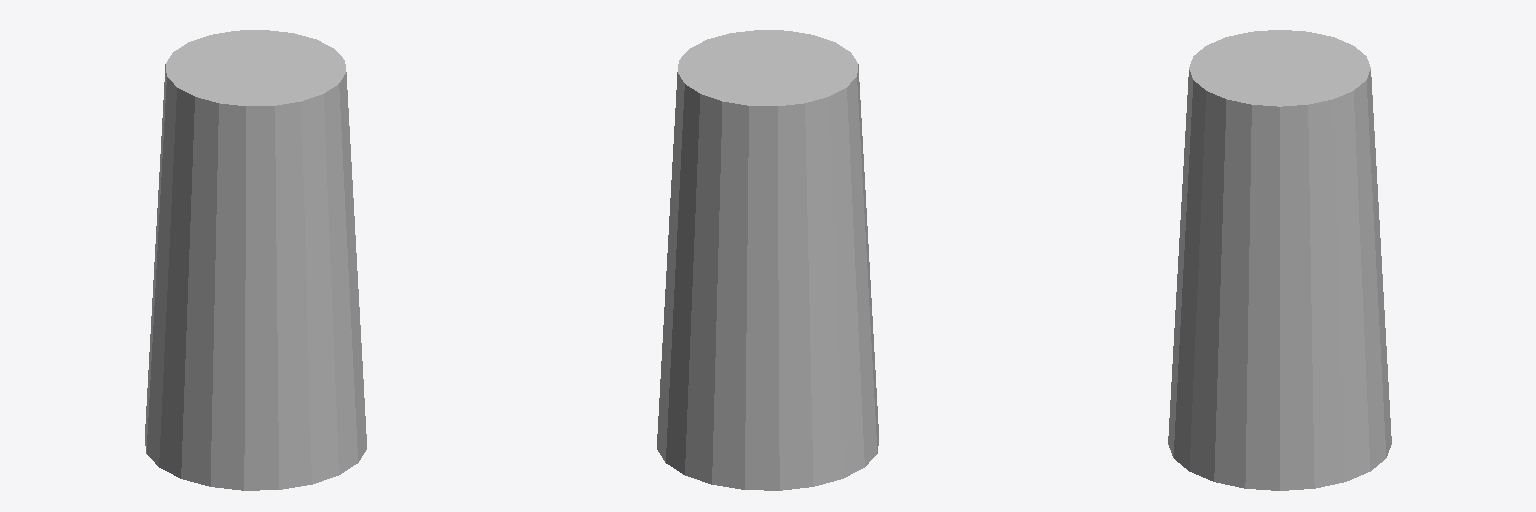
The model's file is beam.obj.
3 renders of one model, left to right at view 1: azimuth 30°, elevation 25°; view 2: azimuth 150°, elevation 25°; view 3: azimuth 270°, elevation 25°, orthographic.
Parts seen in each view (by area): view 1: pCylinder1; view 2: pCylinder1; view 3: pCylinder1.
Part boxes in pixels (x1,y1,x2,y2): pCylinder1: (145,30,366,490); pCylinder1: (657,30,878,490); pCylinder1: (1168,30,1391,490).
Size of the model in its own units: 2.46 by 4.55 by 2.46.